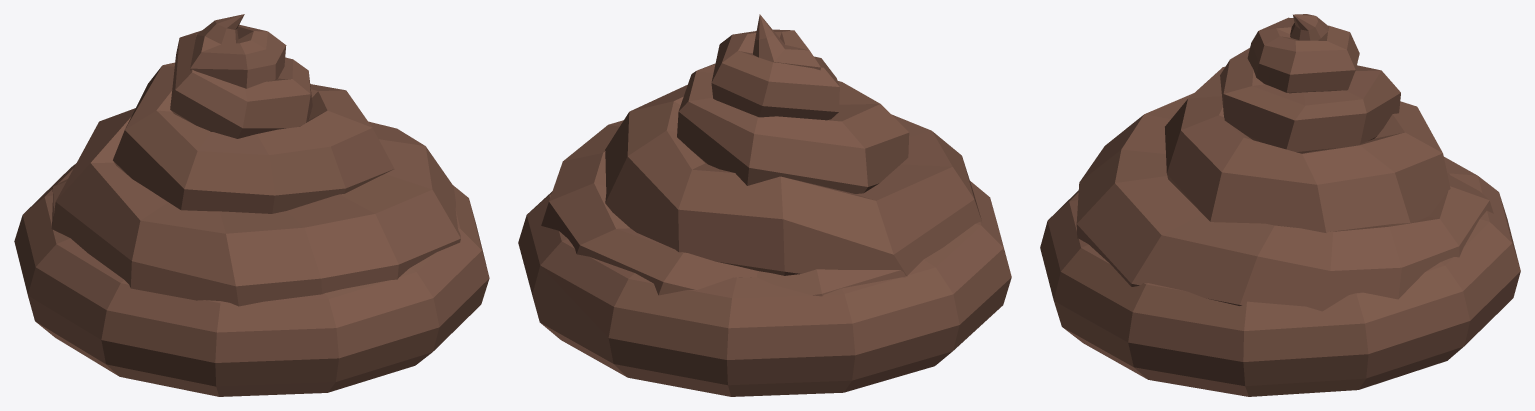
File: poop.glb
3 views of the same model, side by side, from view 1: azimuth 30°, elevation 25°; view 2: azimuth 150°, elevation 25°; view 3: azimuth 270°, elevation 25° (orthographic). The views are drawn at different scales.
Visible parts, largest first — view 1: group1888406042; view 2: group1888406042; view 3: group1888406042.
Part boxes in pixels (<box>): group1888406042: <box>14,14,489,396</box>; group1888406042: <box>518,14,1011,396</box>; group1888406042: <box>1040,14,1520,396</box>.
Size of the model in its own units: 0.4598 by 0.329 by 0.4597.
